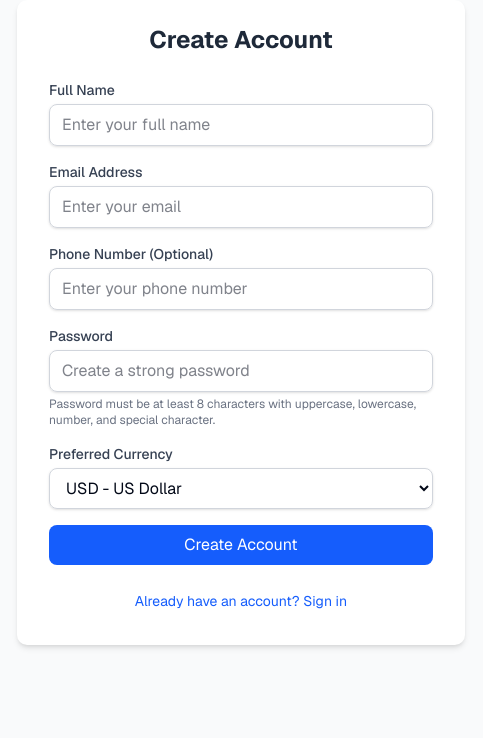
it: RegisterForm › should validate name format
The width and height of the screenshot is (483, 738).
In the field labelled "Full Name": (241, 125) [49,104,433,146], type "John123"
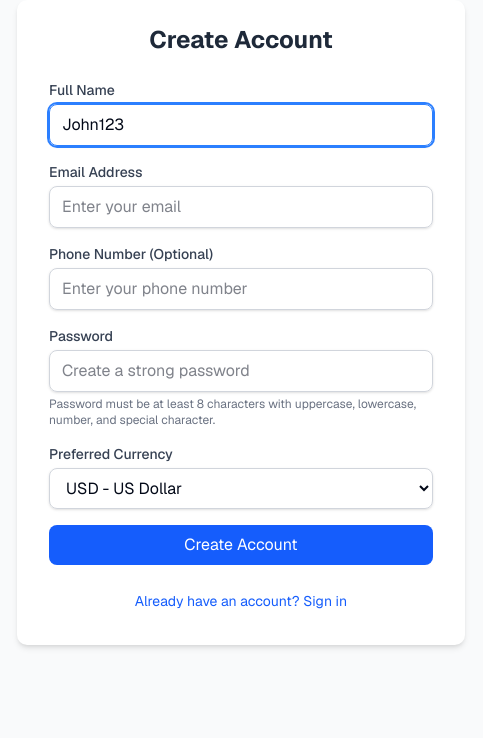
Click the button "Create Account": (241, 545) [49,525,433,565]
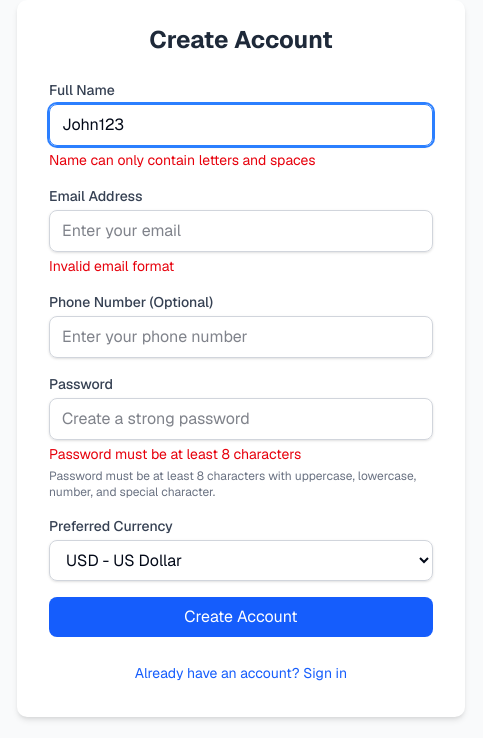
expect the text "Name can only contain letters and spaces" is shown: met, box [49,151,316,169]
